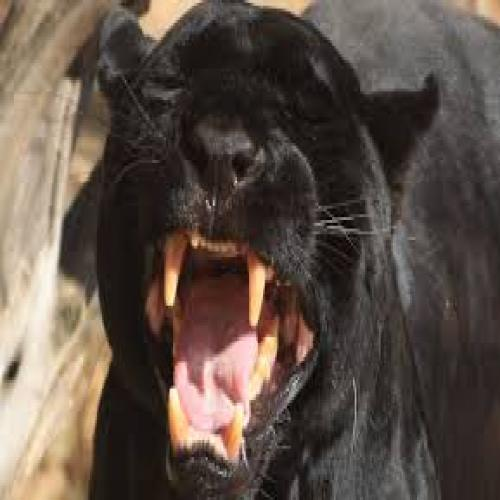panther-endangered: (93, 2, 445, 500)
